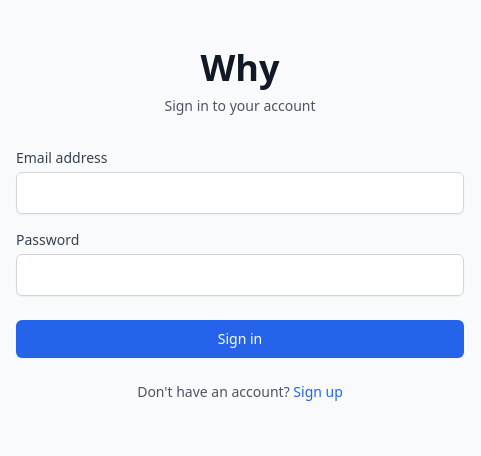
Test case: LoginPage › should clear error when submitting again
Step 1. Type "test@example.com" into the field labelled "Email address" → (240, 193), box [16,172,464,214]
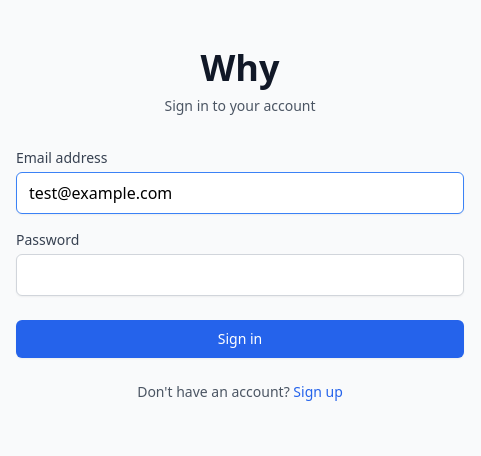
Step 2. Type "wrongpassword" into the password field labelled "Password" → (240, 275), box [16,254,464,296]
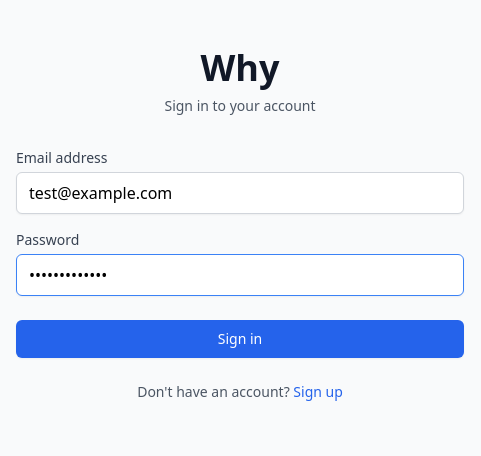
Step 3. Click the button "Sign in" → (240, 339), box [16,320,464,358]
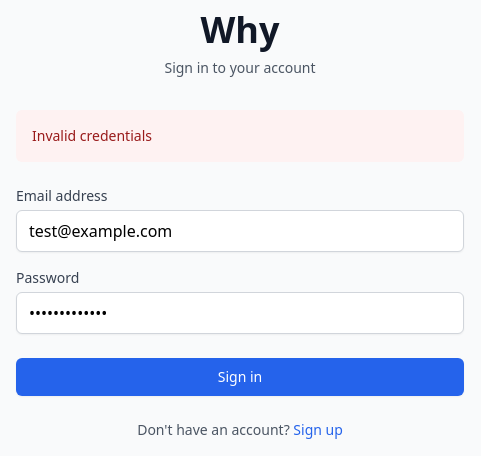
Expected: the text "Invalid credentials" is shown, [32,126,152,145]
Step 4. Type "correctpassword" into the password field labelled "Password" → (240, 313), box [16,292,464,334]
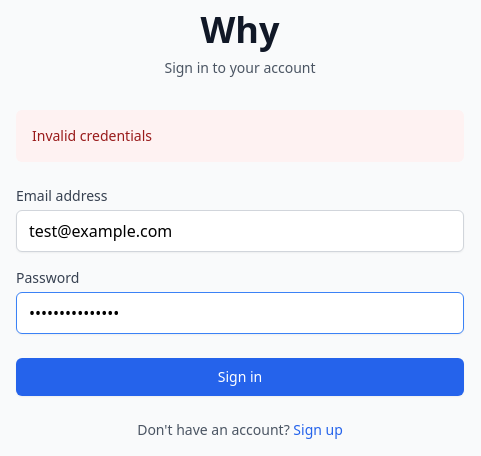
Step 5. Click the button "Sign in" → (240, 377), box [16,358,464,396]
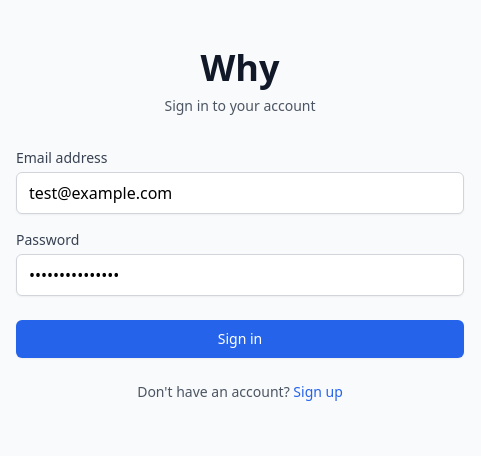
Expected: the text "Invalid credentials" is gone
